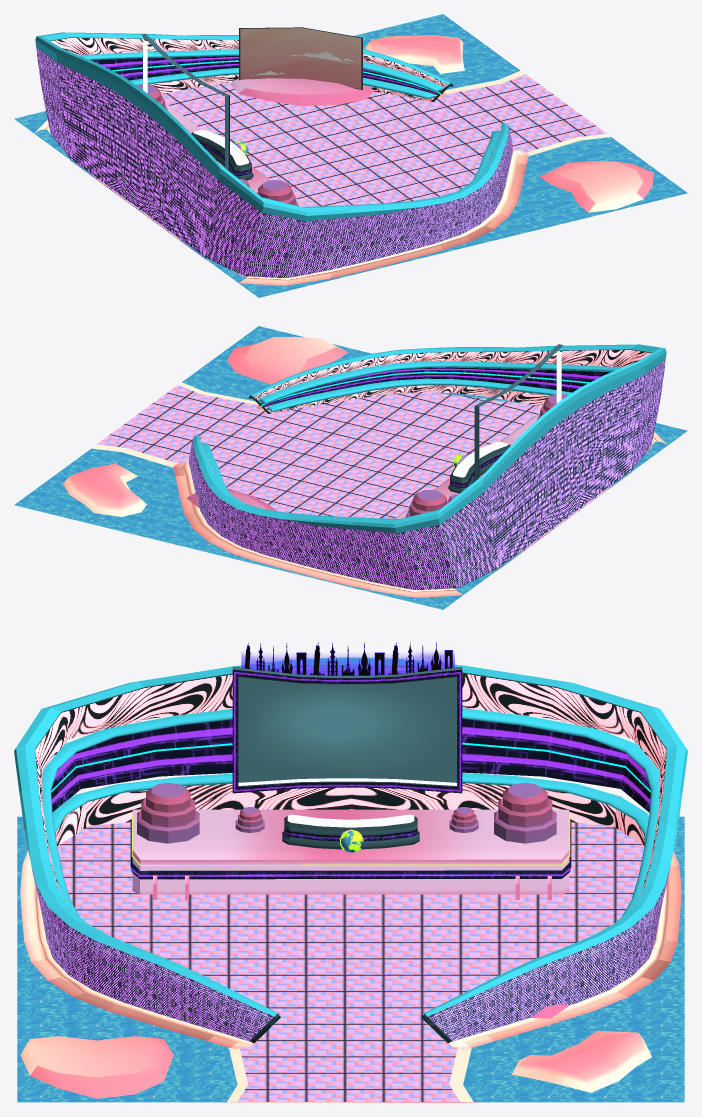
Rendered from entity16542.gltf.
The picture shows the model from 3 angles, top to bottom: view 1: azimuth 30°, elevation 25°; view 2: azimuth 150°, elevation 25°; view 3: azimuth 270°, elevation 25°; orthographic projection. The views are drawn at different scales.
Parts seen in each view (by area): view 1: node_Stage1, node_Stage, node_pPlane2, node_Island2, node_Stage2, node_pCube17, node_Island1, node_Altar6; view 2: node_Stage1, node_Stage, node_Stage2, node_Island2, node_Island1, node_Altar3, node_pCube17; view 3: node_Stage1, node_Stage, node_Stage2, node_Island2, node_Island1, node_Screen_Monument, node_Altar1, node_Altar4, node_Altar3, node_Altar6, node_Altar5, node_Altar2.
Boxes of the visible parts, x1,y1,x2,y2 form: node_Stage1: [35, 32, 610, 277]; node_Stage: [14, 14, 687, 297]; node_pPlane2: [239, 27, 362, 89]; node_Island2: [539, 161, 653, 212]; node_Stage2: [33, 92, 528, 285]; node_pCube17: [230, 78, 373, 105]; node_Island1: [365, 35, 465, 73]; node_Altar6: [258, 180, 292, 201]; node_Stage1: [91, 344, 666, 589]; node_Stage: [14, 326, 687, 609]; node_Stage2: [173, 404, 668, 597]; node_Island2: [227, 336, 348, 384]; node_Island1: [62, 463, 146, 516]; node_Altar3: [412, 489, 446, 511]; node_pCube17: [186, 488, 276, 510]; node_Stage1: [14, 657, 687, 1102]; node_Stage: [17, 816, 684, 1102]; node_Stage2: [20, 850, 681, 1048]; node_Island2: [20, 1036, 173, 1098]; node_Island1: [511, 1030, 651, 1092]; node_Screen_Monument: [241, 642, 454, 675]; node_Altar1: [494, 810, 556, 843]; node_Altar4: [137, 810, 199, 843]; node_Altar3: [503, 782, 547, 812]; node_Altar6: [146, 782, 190, 812]; node_Altar5: [141, 798, 195, 827]; node_Altar2: [498, 798, 552, 827].
Size of what is drawn, in the model's own units: 66.98 by 26.19 by 66.66.
12 materials, 10 textured.
